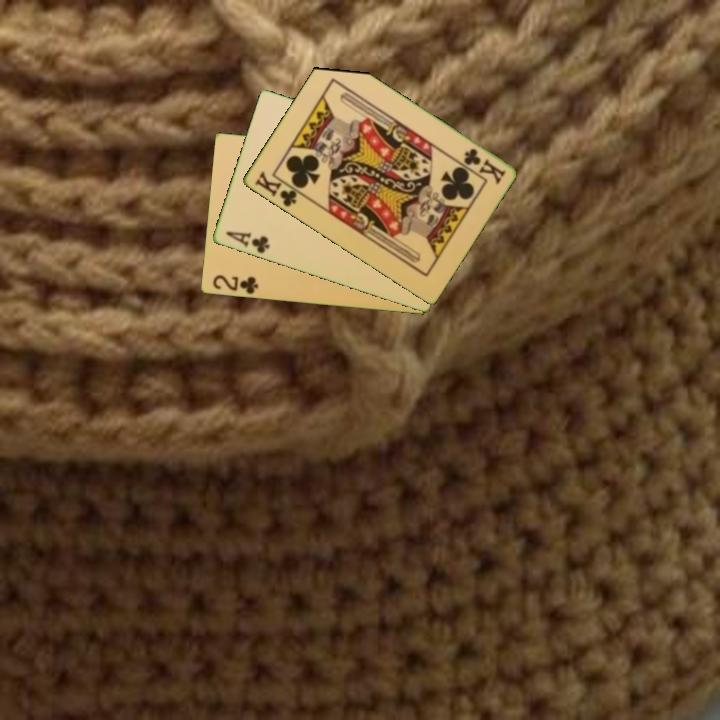2c: (209, 272, 261, 297)
Ac: (222, 228, 272, 256)
Kc: (250, 168, 305, 210), (459, 145, 508, 187)
